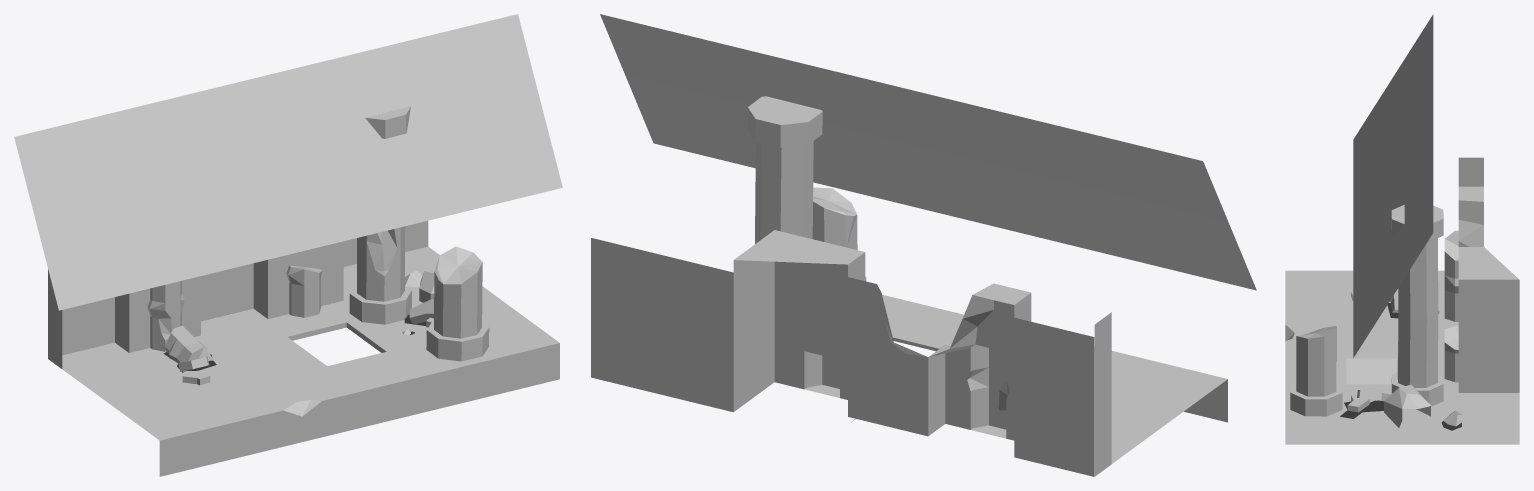
File: NCASTLE2-2-1.obj
3 views of the same model, side by side, from view 1: azimuth 30°, elevation 25°; view 2: azimuth 150°, elevation 25°; view 3: azimuth 270°, elevation 25° (orthographic). The views are drawn at different scales.
Parts seen in each view (by area): view 1: in39_ray03_lay0_QUADS_VisGroup0, n_kabe3_lay0_QUADS_VisGroup0, n_yuka1_lay0_QUADS_VisGroup0, n_fuch3_lay0_QUADS_VisGroup0, n_colum_a_lay0_QUADS_VisGroup0, n_kabe_lay0_QUADS_VisGroup0, in39_yuka3_lay0_TRIS_VisGroup0, in39_yuka3_lay0_QUADS_VisGroup0, n_kabe3_lay0_TRIS_VisGroup0, n_colum_a_lay0_TRIS_VisGroup0, n_fuch3_lay0_TRIS_VisGroup0, in39_gare02_lay0_TRIS_VisGroup0 (+1 smaller); view 2: in39_ray03_lay0_QUADS_VisGroup0, n_kabe_lay0_QUADS_VisGroup0, n_kabe3_lay0_QUADS_VisGroup0, n_kabe_lay0_TRIS_VisGroup0, n_colum_a_lay0_QUADS_VisGroup0, n_yuka1_lay0_QUADS_VisGroup0, in39_yuka3_lay0_QUADS_VisGroup0, n_fuch3_lay0_QUADS_VisGroup0, n_kabe3_lay0_TRIS_VisGroup0, n_colum_a_lay0_TRIS_VisGroup0, in39_yuka3_lay0_TRIS_VisGroup0, n_fuch3_lay0_TRIS_VisGroup0 (+1 smaller); view 3: in39_ray03_lay0_QUADS_VisGroup0, n_yuka1_lay0_QUADS_VisGroup0, n_kabe3_lay0_QUADS_VisGroup0, n_colum_a_lay0_QUADS_VisGroup0, n_fuch3_lay0_QUADS_VisGroup0, in39_yuka3_lay0_QUADS_VisGroup0, in39_yuka3_lay0_TRIS_VisGroup0, n_kabe3_lay0_TRIS_VisGroup0, n_kaidan_lay0_QUADS_VisGroup0, n_fuch3_lay0_TRIS_VisGroup0, h_kage_lay0_QUADS_VisGroup0, n_colum_a_lay0_TRIS_VisGroup0 (+1 smaller).
Boxes of the visible parts, bbox=[...] form: in39_ray03_lay0_QUADS_VisGroup0: bbox=[14, 14, 562, 310]; n_kabe3_lay0_QUADS_VisGroup0: bbox=[48, 241, 559, 476]; n_yuka1_lay0_QUADS_VisGroup0: bbox=[74, 255, 547, 432]; n_fuch3_lay0_QUADS_VisGroup0: bbox=[62, 246, 559, 435]; n_colum_a_lay0_QUADS_VisGroup0: bbox=[349, 107, 489, 361]; n_kabe_lay0_QUADS_VisGroup0: bbox=[62, 221, 428, 355]; in39_yuka3_lay0_TRIS_VisGroup0: bbox=[158, 229, 439, 416]; in39_yuka3_lay0_QUADS_VisGroup0: bbox=[178, 247, 442, 385]; n_kabe3_lay0_TRIS_VisGroup0: bbox=[130, 258, 433, 377]; n_colum_a_lay0_TRIS_VisGroup0: bbox=[365, 106, 481, 341]; n_fuch3_lay0_TRIS_VisGroup0: bbox=[148, 301, 349, 440]; in39_gare02_lay0_TRIS_VisGroup0: bbox=[437, 246, 482, 284]; in39_ray03_lay0_QUADS_VisGroup0: bbox=[600, 14, 1256, 290]; n_kabe_lay0_QUADS_VisGroup0: bbox=[591, 255, 1094, 476]; n_kabe3_lay0_QUADS_VisGroup0: bbox=[733, 237, 1227, 476]; n_kabe_lay0_TRIS_VisGroup0: bbox=[591, 238, 928, 435]; n_colum_a_lay0_QUADS_VisGroup0: bbox=[747, 107, 866, 281]; n_yuka1_lay0_QUADS_VisGroup0: bbox=[885, 309, 1213, 454]; in39_yuka3_lay0_QUADS_VisGroup0: bbox=[801, 212, 1006, 359]; n_fuch3_lay0_QUADS_VisGroup0: bbox=[805, 294, 1203, 476]; n_kabe3_lay0_TRIS_VisGroup0: bbox=[733, 230, 1110, 402]; n_colum_a_lay0_TRIS_VisGroup0: bbox=[748, 96, 857, 247]; in39_yuka3_lay0_TRIS_VisGroup0: bbox=[825, 208, 1007, 415]; n_fuch3_lay0_TRIS_VisGroup0: bbox=[1094, 346, 1227, 388]; in39_ray03_lay0_QUADS_VisGroup0: bbox=[1353, 14, 1433, 357]; n_yuka1_lay0_QUADS_VisGroup0: bbox=[1305, 270, 1499, 444]; n_kabe3_lay0_QUADS_VisGroup0: bbox=[1351, 158, 1519, 392]; n_colum_a_lay0_QUADS_VisGroup0: bbox=[1290, 218, 1443, 416]; n_fuch3_lay0_QUADS_VisGroup0: bbox=[1285, 270, 1519, 444]; in39_yuka3_lay0_QUADS_VisGroup0: bbox=[1347, 200, 1483, 427]; in39_yuka3_lay0_TRIS_VisGroup0: bbox=[1285, 220, 1483, 427]; n_kabe3_lay0_TRIS_VisGroup0: bbox=[1348, 157, 1519, 406]; n_kaidan_lay0_QUADS_VisGroup0: bbox=[1356, 358, 1397, 384]; n_fuch3_lay0_TRIS_VisGroup0: bbox=[1285, 270, 1457, 392]; h_kage_lay0_QUADS_VisGroup0: bbox=[1340, 303, 1461, 430]; n_colum_a_lay0_TRIS_VisGroup0: bbox=[1290, 205, 1443, 392].
Bounding box in the file's own units: 406 × 231 × 184.
